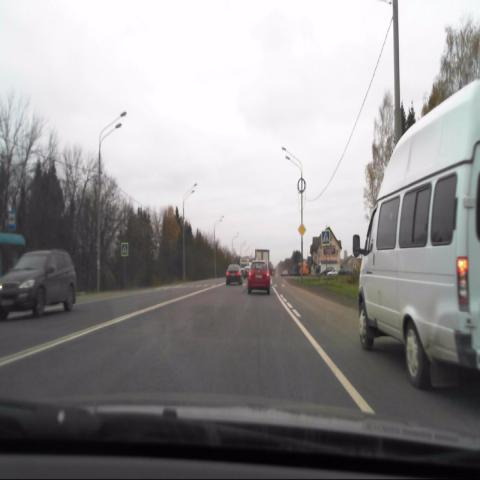2_1: (298, 223, 305, 237)
5_16: (6, 210, 15, 231)
5_19_1: (322, 230, 330, 244), (121, 244, 128, 255)
